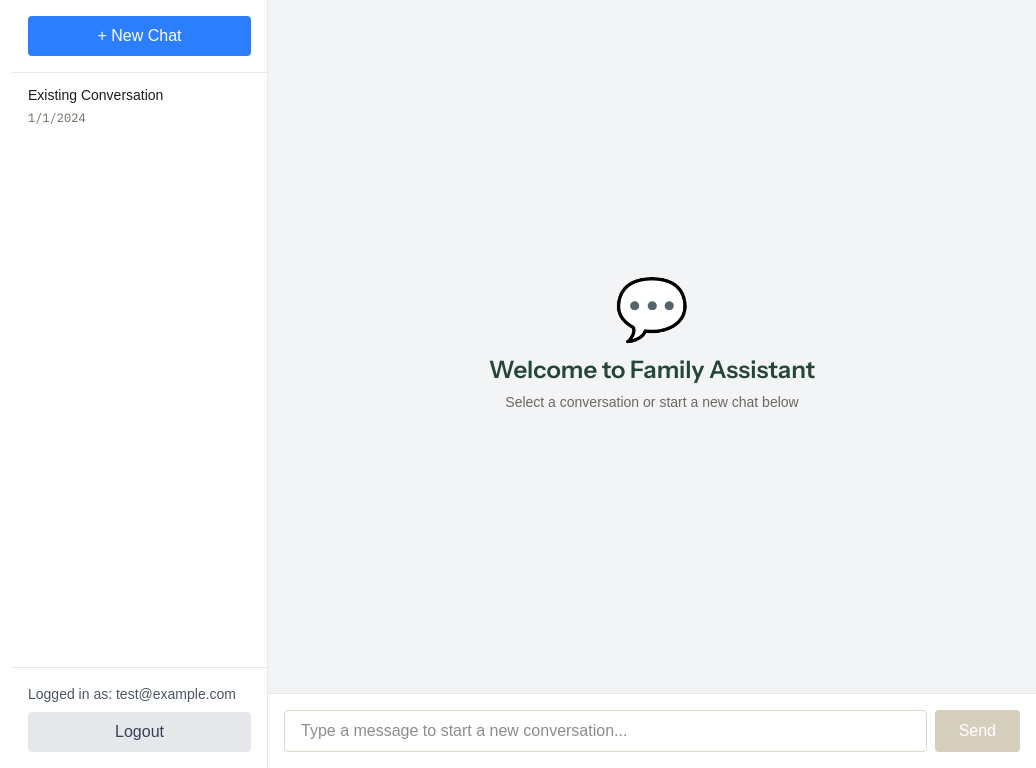
Test: ConversationsChat › Existing conversation flow › loads and displays messages when conversation is selected
// Click on conversation
Click the text "Existing Conversation" at (96, 95), box [28,87,163,103]
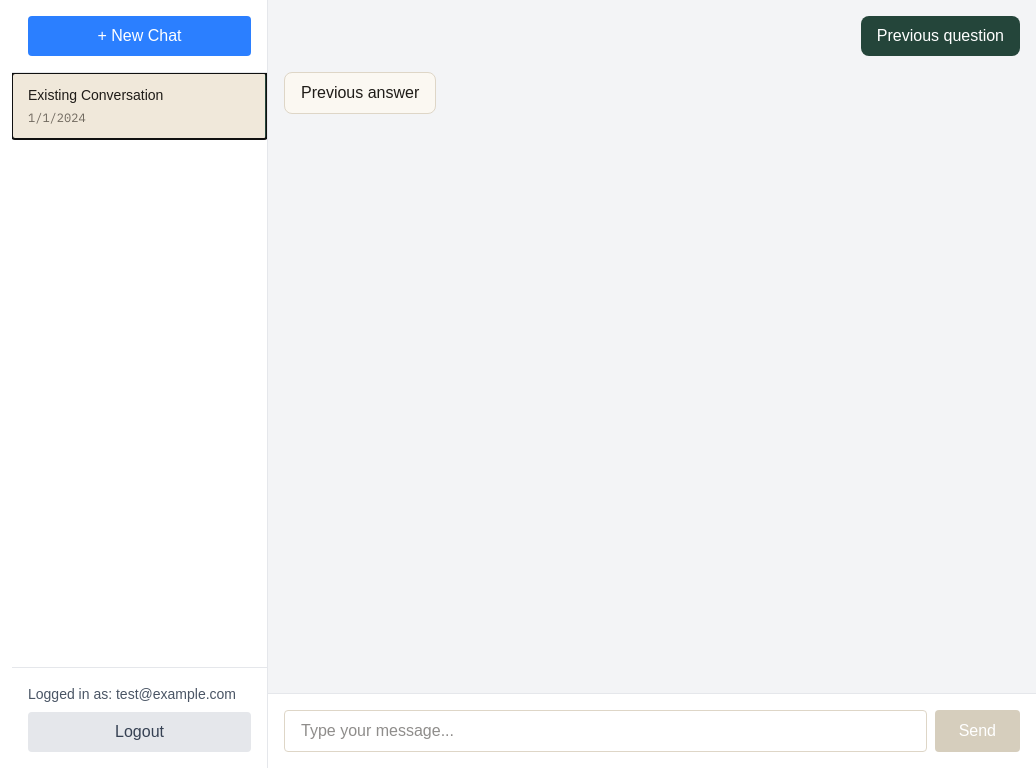
Expected: the text "Previous question" is shown, [877,24,1004,48]
Expected: the text "Previous answer" is shown, [301,81,419,105]
